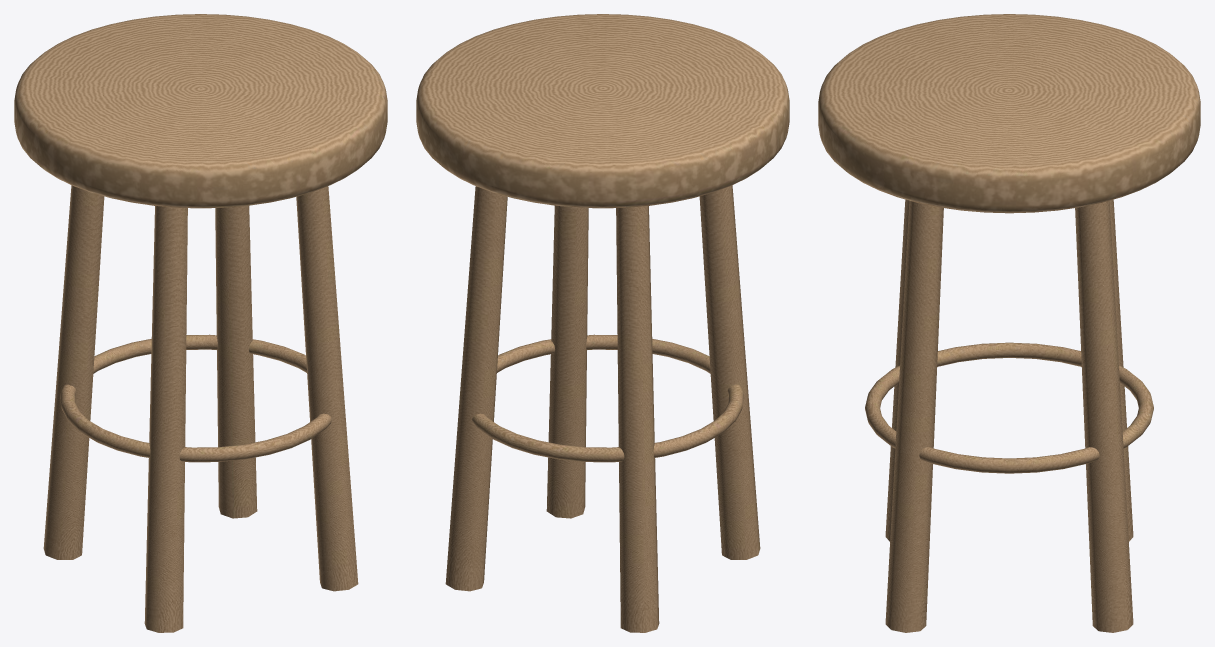
Rendered from stool.glb.
3 views of the same model, side by side, from view 1: azimuth 30°, elevation 25°; view 2: azimuth 150°, elevation 25°; view 3: azimuth 270°, elevation 25° (orthographic). The views are drawn at different scales.
Parts seen in each view (by area): view 1: stool; view 2: stool; view 3: stool.
Boxes of the visible parts, x1=… form: stool: x1=14, y1=14, x2=387, y2=632; stool: x1=416, y1=14, x2=789, y2=632; stool: x1=818, y1=14, x2=1200, y2=632.
Size of the model in its own units: 6 by 8.52 by 6.
Materials: 1 (1 with a texture image).
